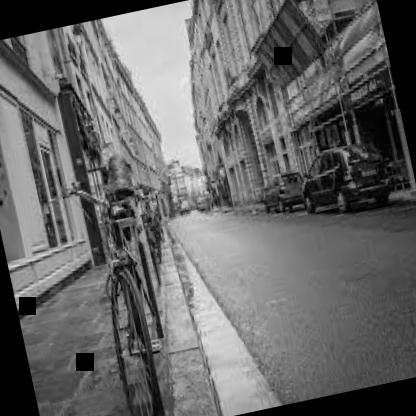car: (290, 130, 416, 244), (249, 149, 312, 227)
